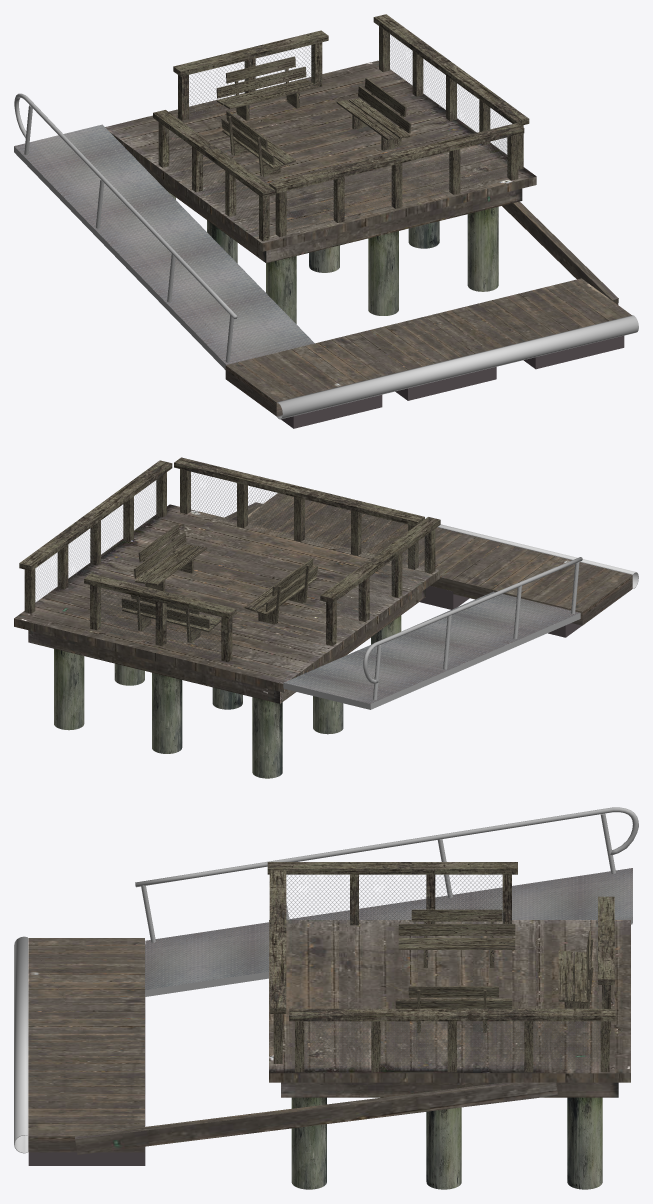
Rendered from docks.glb.
3 renders of one model, top to bottom at view 1: azimuth 30°, elevation 25°; view 2: azimuth 150°, elevation 25°; view 3: azimuth 270°, elevation 25°, orthographic. The views are drawn at different scales.
Parts seen in each view (by area): view 1: base, Dock, down ramp, Dock Wood Railing, Dock Wood Railing.001, Dock Wood Railing.002, Dock Wood Railing.003, bench, bench.001, Metal Railing, pillar, pillar.003 (+4 smaller); view 2: base, Dock, down ramp, Dock Wood Railing, Dock Wood Railing.001, Dock Wood Railing.003, Dock Wood Railing.002, bench.001, pillar.008, pillar.002, pillar.005, Metal Railing (+5 smaller); view 3: base, Dock, down ramp, Dock Wood Railing.001, Dock Wood Railing.002, bench.002, Metal Railing, pillar.002, Dock Wood Railing, pillar.001, pillar, bench.001 (+2 smaller).
Part boxes in pixels (x1,y1,x2,y2): base: [105, 60, 536, 263]; Dock: [225, 201, 638, 428]; down ramp: [14, 124, 314, 369]; Dock Wood Railing: [269, 123, 524, 237]; Dock Wood Railing.001: [373, 14, 529, 169]; Dock Wood Railing.002: [153, 110, 275, 241]; Dock Wood Railing.003: [173, 30, 328, 120]; bench: [216, 56, 318, 120]; bench.001: [336, 78, 411, 150]; Metal Railing: [14, 93, 237, 362]; pillar: [467, 206, 498, 291]; pillar.003: [368, 231, 398, 315]; base: [14, 504, 439, 703]; Dock: [224, 493, 638, 637]; down ramp: [283, 591, 580, 709]; Dock Wood Railing: [174, 457, 424, 569]; Dock Wood Railing.001: [19, 460, 172, 613]; Dock Wood Railing.003: [84, 573, 236, 662]; Dock Wood Railing.002: [320, 517, 440, 645]; bench.001: [134, 524, 207, 591]; pillar.008: [252, 697, 282, 778]; pillar.002: [54, 649, 84, 730]; pillar.005: [152, 672, 182, 753]; Metal Railing: [363, 557, 582, 699]; base: [269, 920, 630, 1097]; Dock: [14, 936, 557, 1165]; down ramp: [145, 868, 632, 996]; Dock Wood Railing.001: [289, 1008, 615, 1072]; Dock Wood Railing.002: [267, 862, 517, 925]; bench.002: [398, 909, 515, 967]; Metal Railing: [135, 807, 638, 942]; pillar.002: [567, 1097, 602, 1189]; Dock Wood Railing: [269, 870, 286, 1063]; pillar.001: [426, 1107, 461, 1189]; pillar: [291, 1097, 326, 1189]; bench.001: [395, 986, 512, 1032].
Bounding box in the file's own units: 9.38 × 4.16 × 12.12.
Materials: 9 (6 with a texture image).
